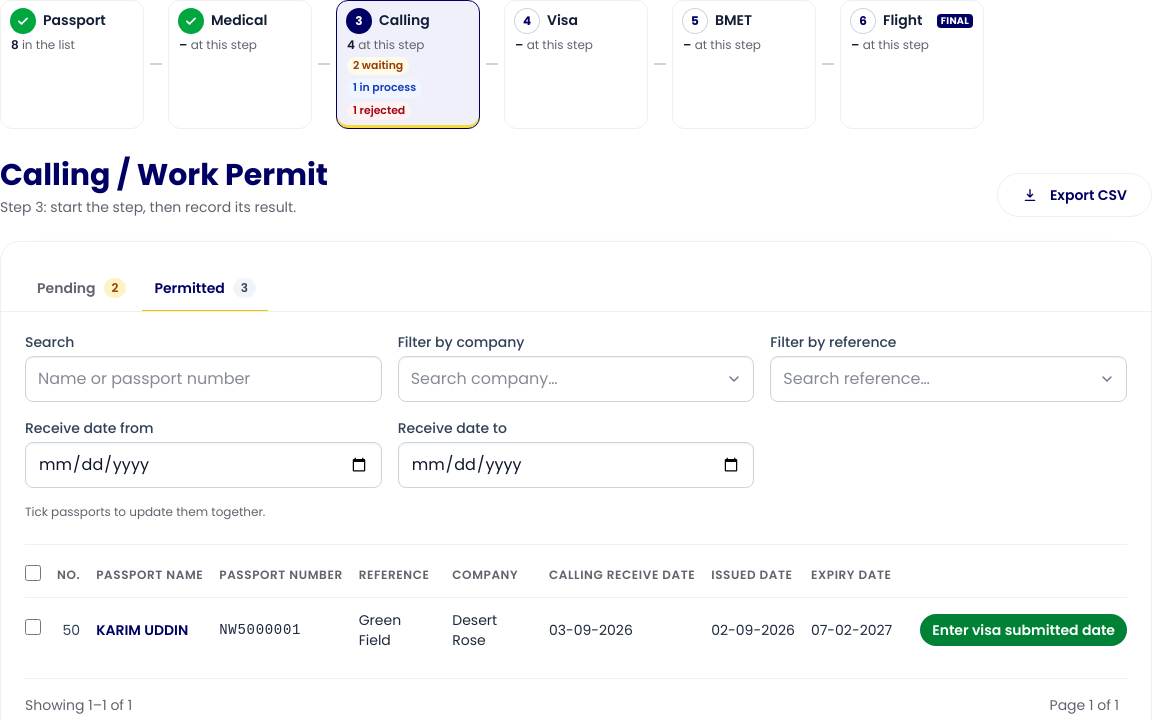
Step pages (one per step) › Calling: Pending and Permitted › the dialogs are top-aligned modals › next: fixed near the top, centred, max 480px, scrolls inside, dim backdrop; focus on the first field
What coordinates should you click on to do the following:
click the button "Enter visa submitted date"
I would click on:
 (1024, 630)
Its box is [920,614,1127,646].
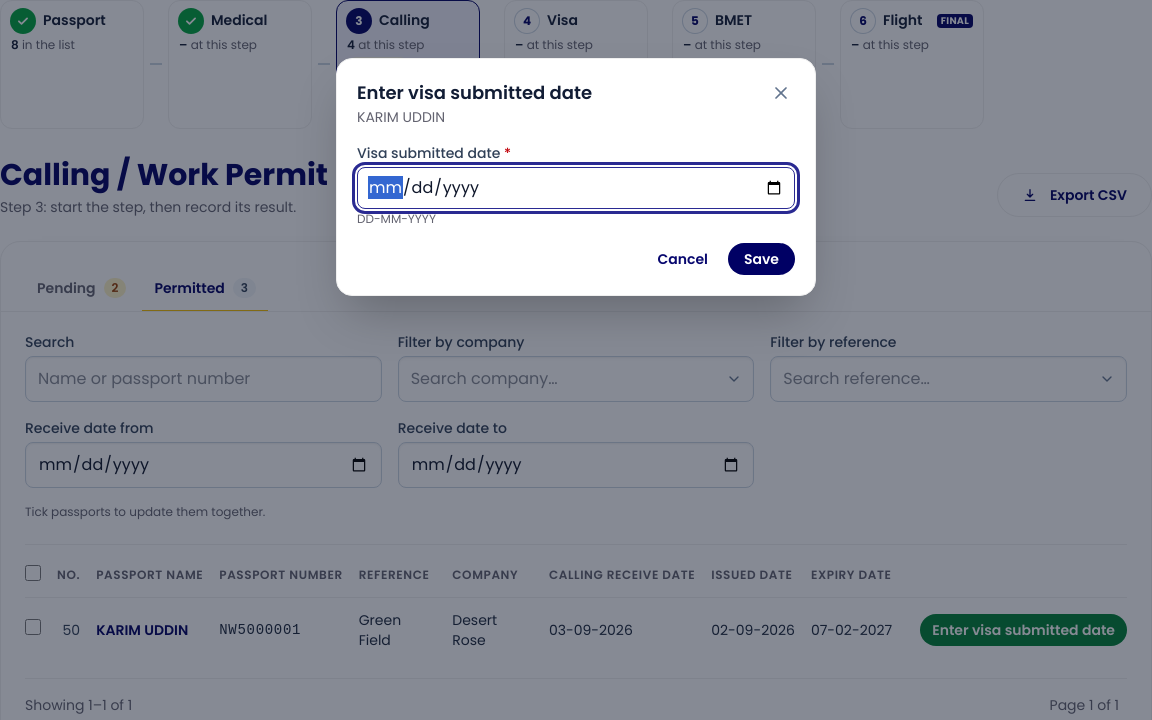
expect the heading "Enter visa submitted date" is shown: met, box [357,80,592,105]
